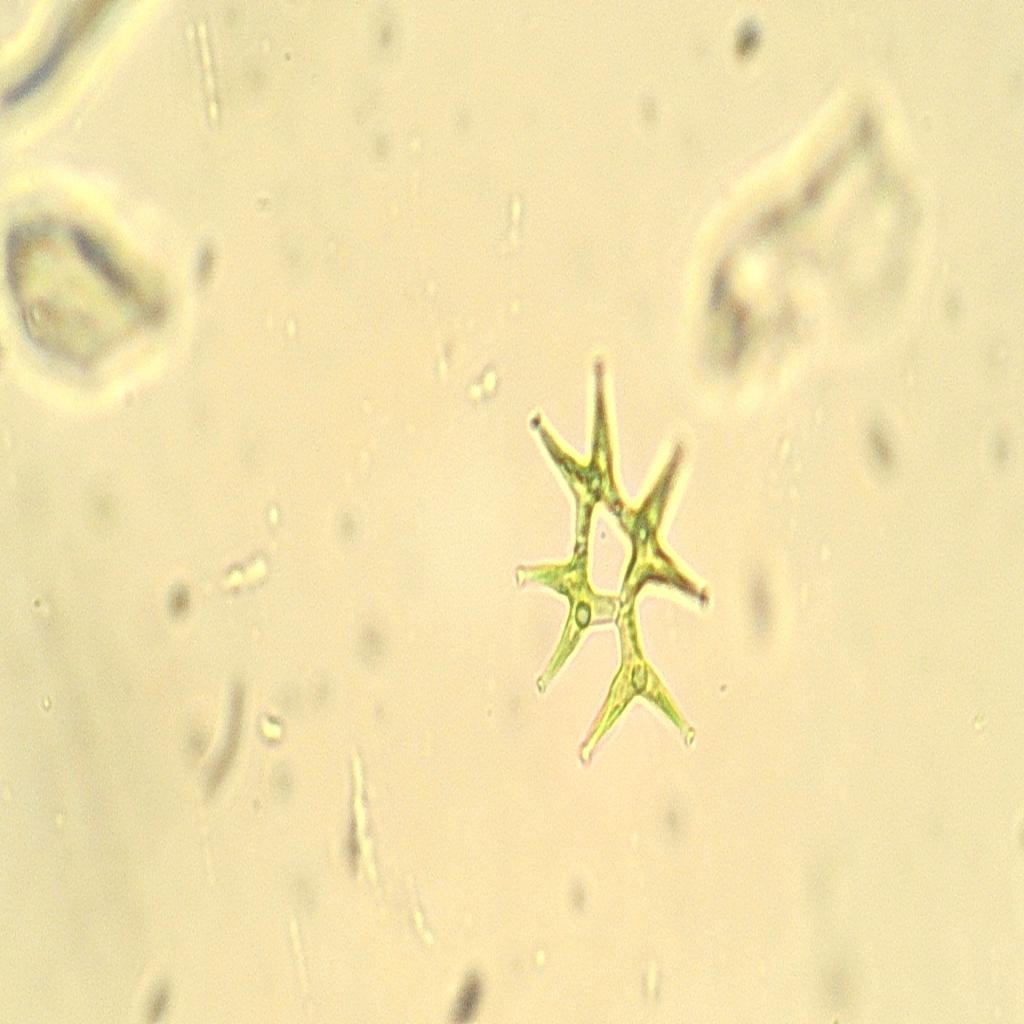Pediastrum_75FI: (502, 331, 729, 790)
